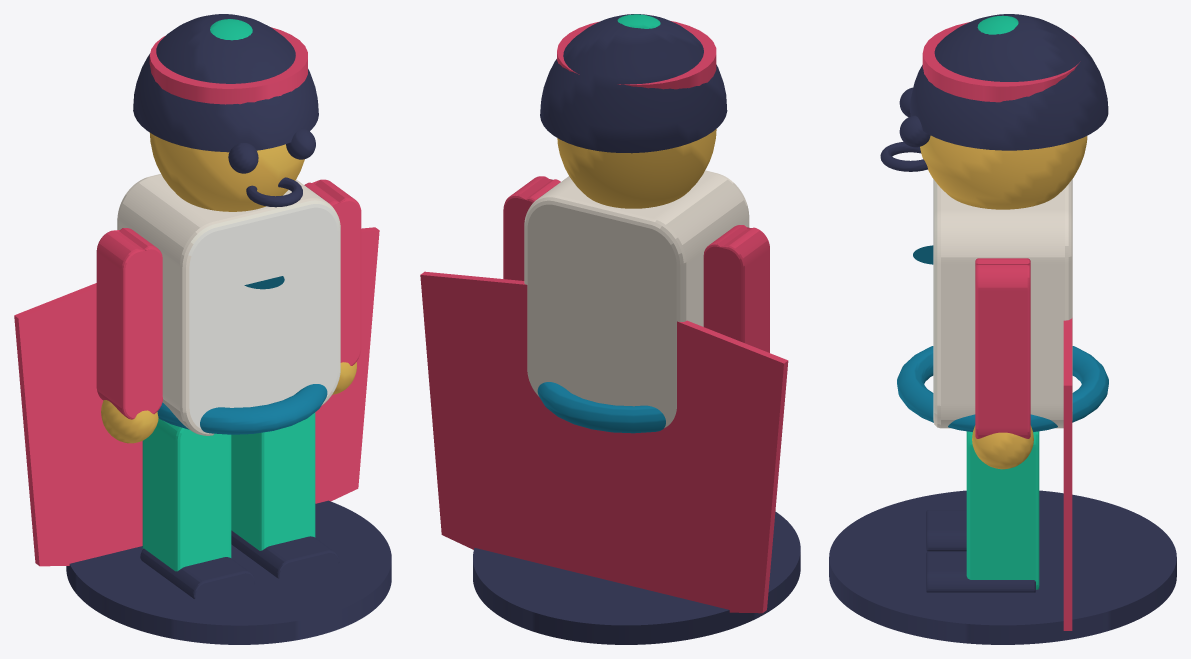
File: 1072_古文观止_汉武帝.glb
3 renders of one model, left to right at view 1: azimuth 30°, elevation 25°; view 2: azimuth 150°, elevation 25°; view 3: azimuth 270°, elevation 25°, orthographic.
Parts seen in each view (by area): view 1: card_1072; view 2: card_1072; view 3: card_1072.
Part boxes in pixels (x1,y1,x2,y2): card_1072: [14, 14, 391, 644]; card_1072: [420, 14, 800, 644]; card_1072: [829, 14, 1176, 644].
Bounding box in the file's own units: 0.6721 × 1 × 0.5541.
